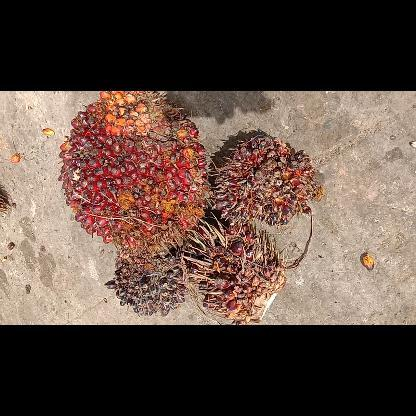TBS abnormal: (212, 132, 324, 228), (189, 222, 287, 324), (106, 247, 186, 319)
TBS masak: (56, 91, 210, 257)
